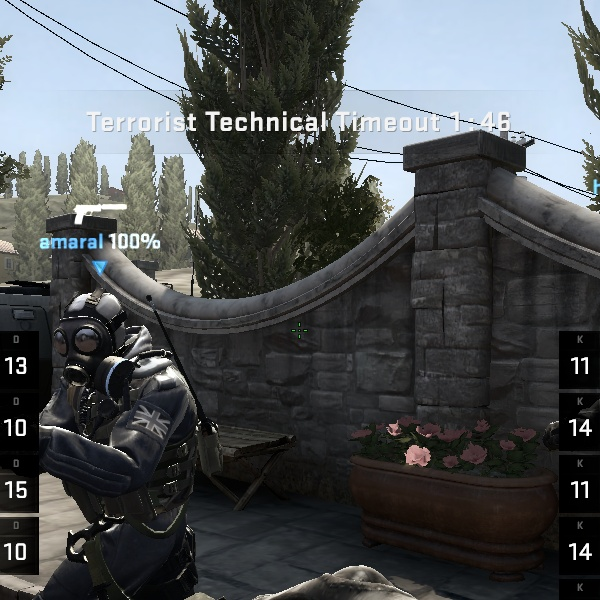ct_body: (18, 279, 243, 586)
ct_head: (46, 275, 150, 379)
